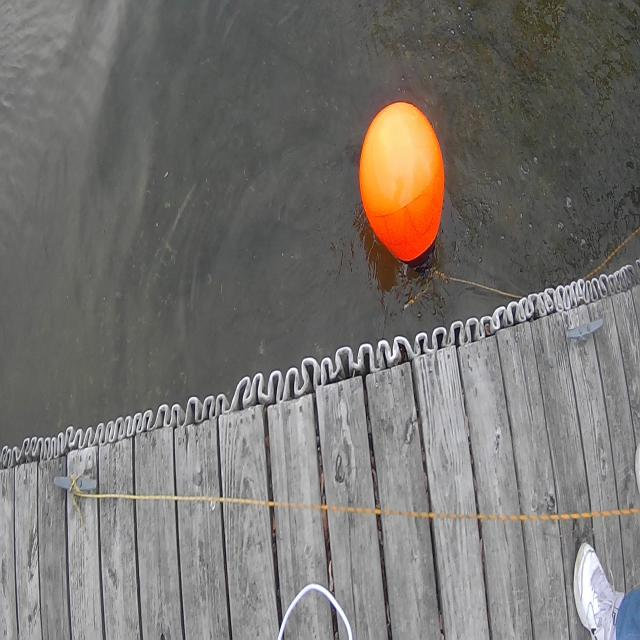Buoy: (354, 91, 458, 282)
